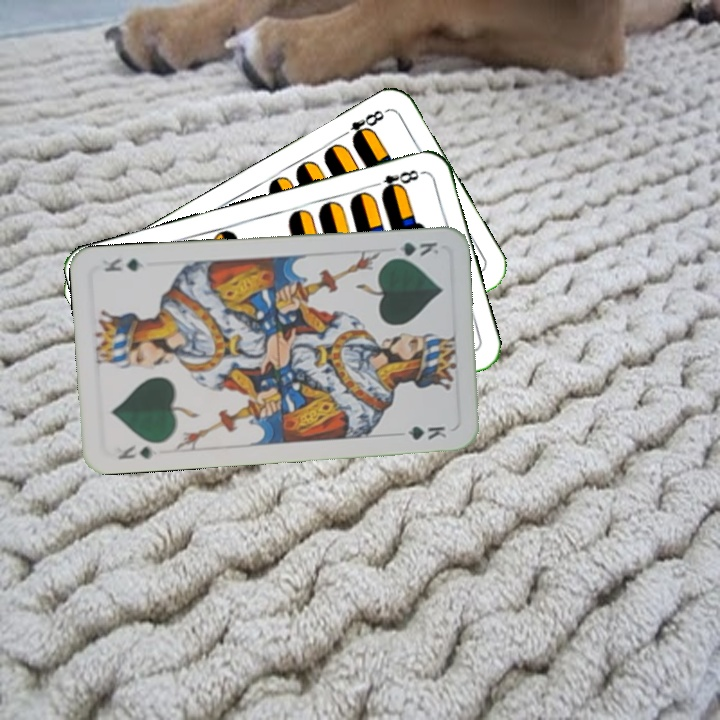E8: (336, 106, 387, 146), (367, 165, 426, 197)
GK: (384, 238, 441, 262), (114, 441, 155, 462)
